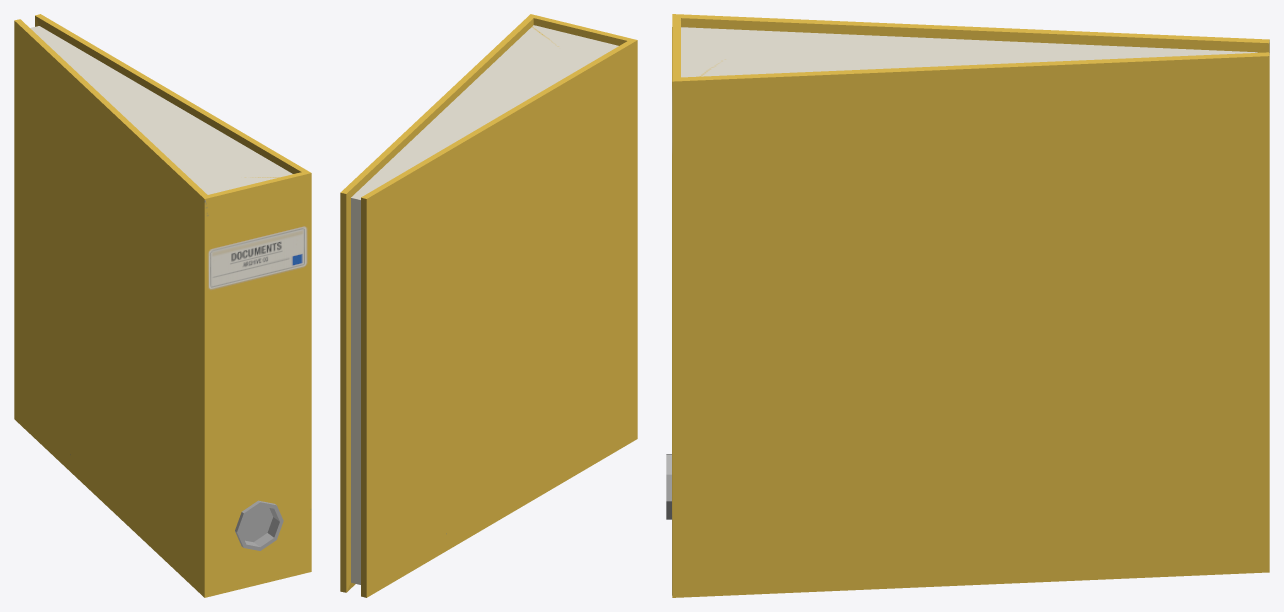
File: Document_Cover_Yellow.fbx
The picture shows the model from 3 angles, left to right: view 1: azimuth 30°, elevation 25°; view 2: azimuth 150°, elevation 25°; view 3: azimuth 270°, elevation 25°; orthographic projection. The views are drawn at different scales.
Visible parts, largest first — view 1: Cape_Office.003; view 2: Cape_Office.003; view 3: Cape_Office.003.
Boxes of the visible parts, x1,y1,x2,y2 form: Cape_Office.003: (14,14,311,597); Cape_Office.003: (340,14,637,597); Cape_Office.003: (666,14,1269,597).
Size of the model in its own units: 8 by 28.5 by 30.17.
